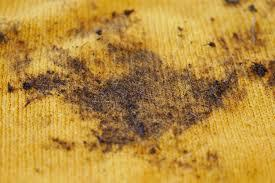earth: (74, 80, 214, 119), (96, 124, 159, 144), (123, 51, 155, 78), (23, 74, 62, 93), (217, 75, 237, 106), (66, 60, 90, 75), (249, 62, 267, 79)
